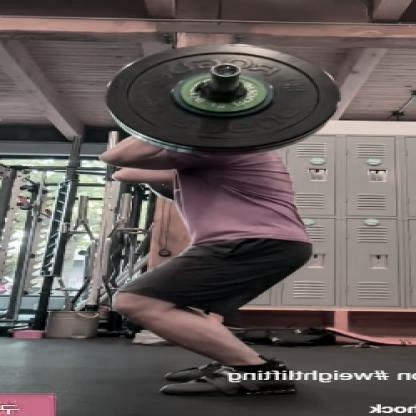Barbell: (204, 62, 241, 80)
